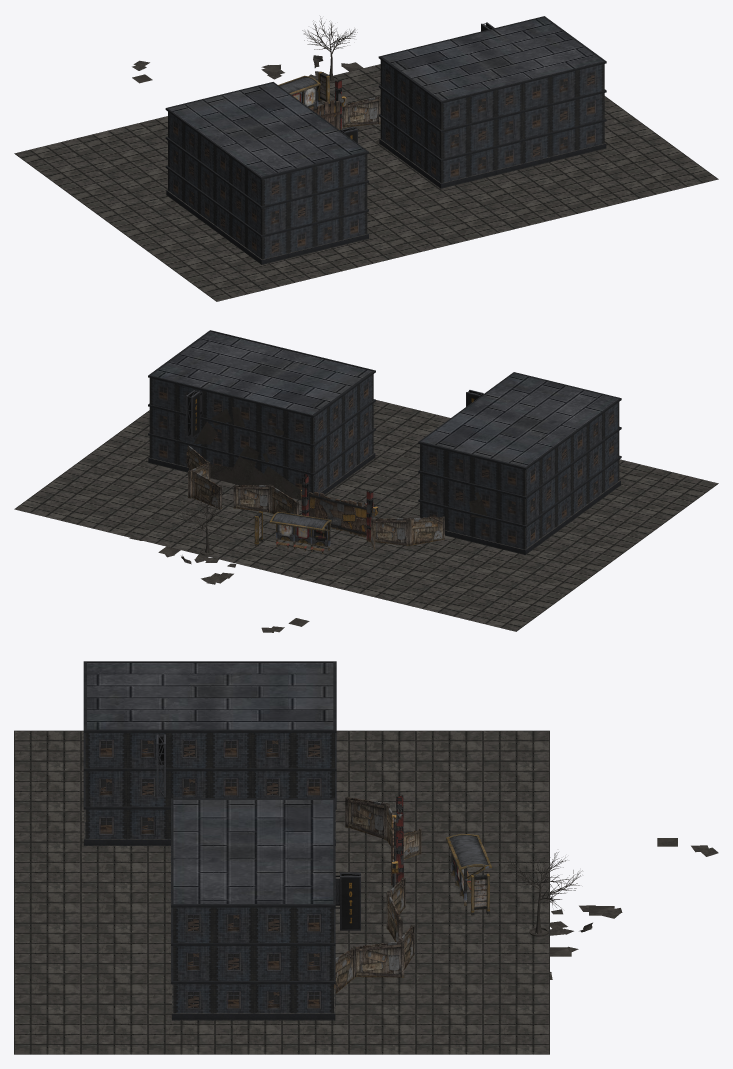
Rendered from hotel.obj.
3 views of the same model, one above another, from view 1: azimuth 30°, elevation 25°; view 2: azimuth 150°, elevation 25°; view 3: azimuth 270°, elevation 25° (orthographic). The views are drawn at different scales.
Parts seen in each view (by area): view 1: Plane02, aab, aab01, Box10, Plane11, gate, Cylinder02; view 2: Plane02, aab01, aab, gate, Box10, Plane12, Plane16, Plane17, Plane113, Plane13, Cylinder02, Plane11 (+2 smaller); view 3: Plane02, aab01, aab, Box10, Plane14, Plane16, Cylinder02, gate, Plane15.
Boxes of the visible parts, bbox=[...] form: Plane02: bbox=[14, 64, 718, 301]; aab: bbox=[378, 16, 606, 188]; aab01: bbox=[165, 82, 368, 264]; Box10: bbox=[278, 72, 329, 107]; Plane11: bbox=[342, 96, 380, 127]; gate: bbox=[310, 80, 346, 130]; Cylinder02: bbox=[302, 16, 357, 83]; Plane02: bbox=[14, 400, 718, 631]; aab01: bbox=[418, 372, 621, 554]; aab: bbox=[148, 330, 375, 496]; gate: bbox=[300, 473, 378, 541]; Box10: bbox=[254, 511, 331, 553]; Plane12: bbox=[233, 484, 271, 512]; Plane16: bbox=[408, 516, 444, 545]; Plane17: bbox=[370, 518, 408, 546]; Plane113: bbox=[226, 456, 288, 494]; Plane13: bbox=[192, 470, 221, 509]; Cylinder02: bbox=[173, 490, 224, 555]; Plane11: bbox=[270, 485, 298, 514]; Plane02: bbox=[14, 730, 549, 1054]; aab01: bbox=[83, 661, 336, 845]; aab: bbox=[171, 798, 360, 1020]; Box10: bbox=[446, 833, 491, 915]; Plane14: bbox=[353, 940, 404, 977]; Plane16: bbox=[345, 796, 388, 839]; Cylinder02: bbox=[506, 852, 582, 936]; gate: bbox=[391, 795, 403, 887]; Plane15: bbox=[334, 948, 354, 993].
Size of the model in its own units: 3678 by 914 by 3382.
Materials: 6 (6 with a texture image).
